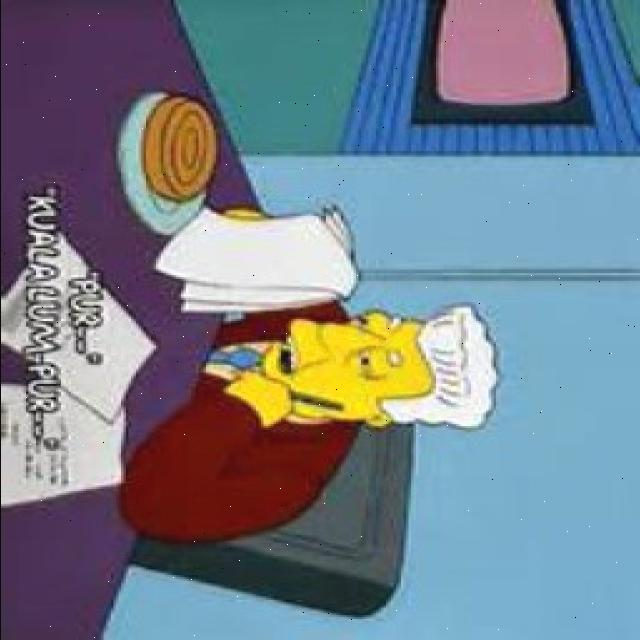Kent Brockman: (252, 297, 498, 433)
